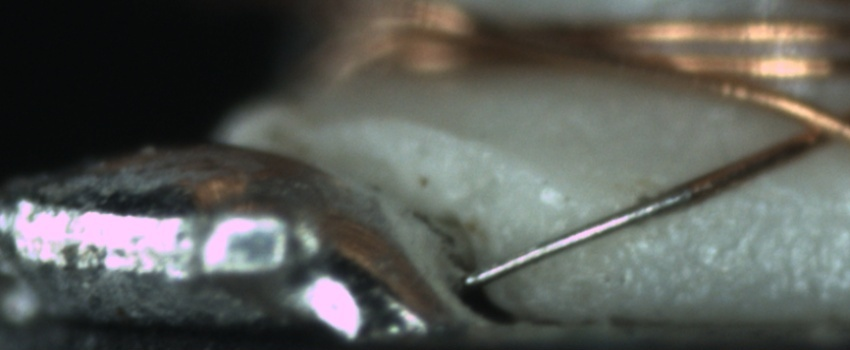CL: (773, 96, 848, 157)
DL: (555, 179, 850, 228)
TS: (460, 188, 695, 291)
